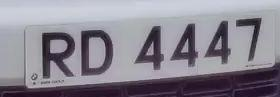4: (167, 15, 204, 74), (131, 19, 168, 75), (201, 14, 236, 71)
7: (232, 13, 267, 68)
D: (75, 25, 122, 82)
R: (34, 28, 80, 85)
